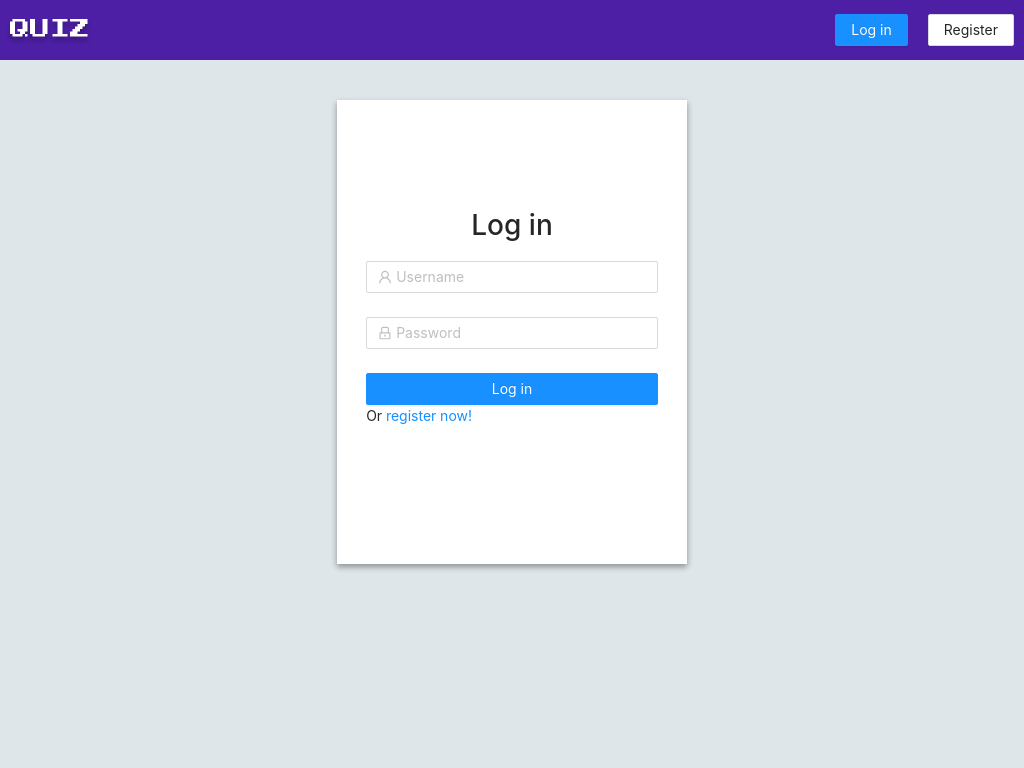
Test: /login › requires valid username and password
Click the 2nd button "Log in" at (512, 389), box [366,373,658,405]
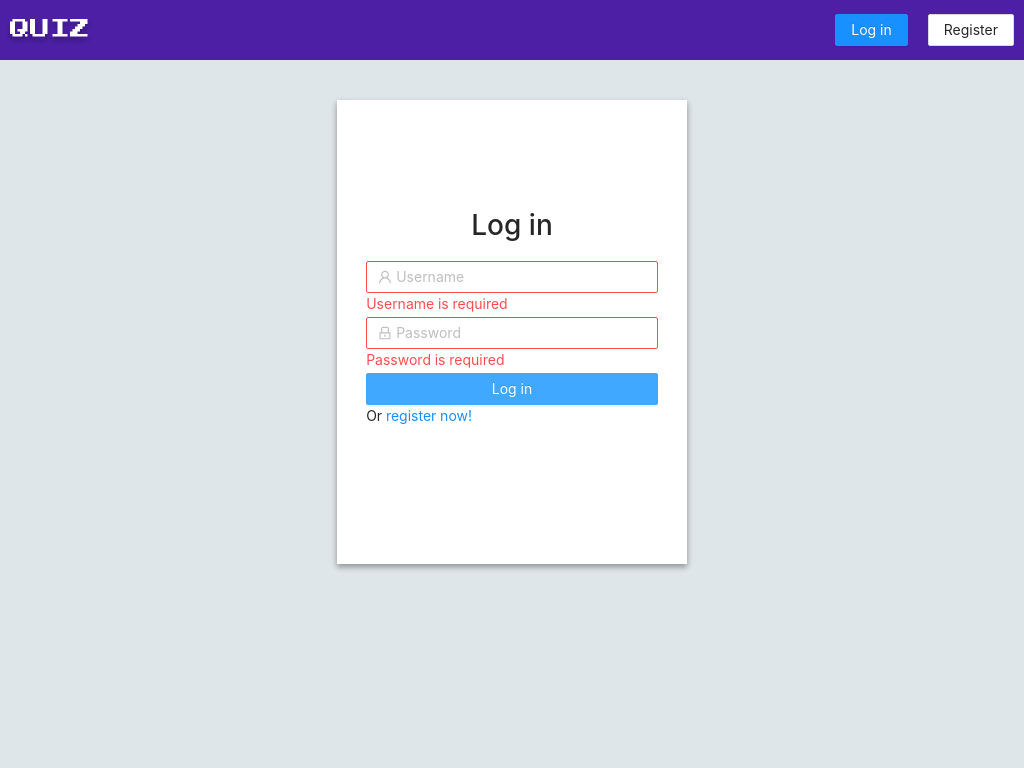
expect the text "Username is required" is shown: met, box [366,295,508,312]
expect the text "Password is required" is shown: met, box [366,351,504,368]
Type "vsim" into the field with placeholder "Username" at (521, 277), box [396,266,646,288]
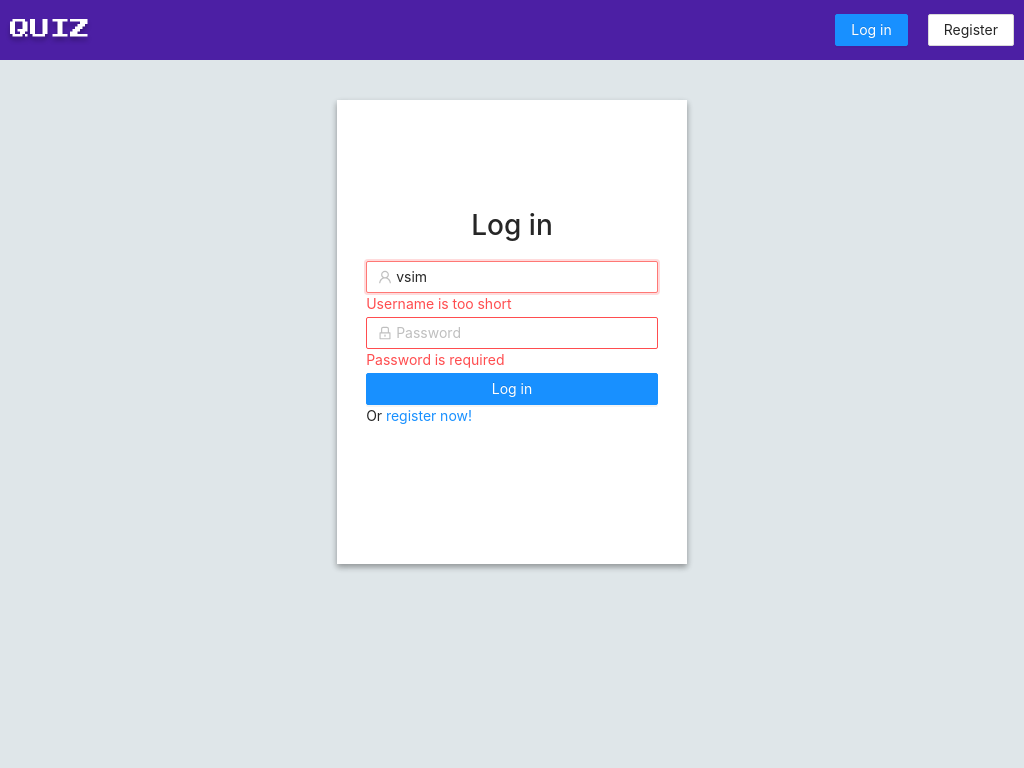
expect the text "Username is too short" is shown: met, box [366,295,512,312]
Type "123" into the password field with placeholder "Password" at (521, 333), box [396,322,646,344]
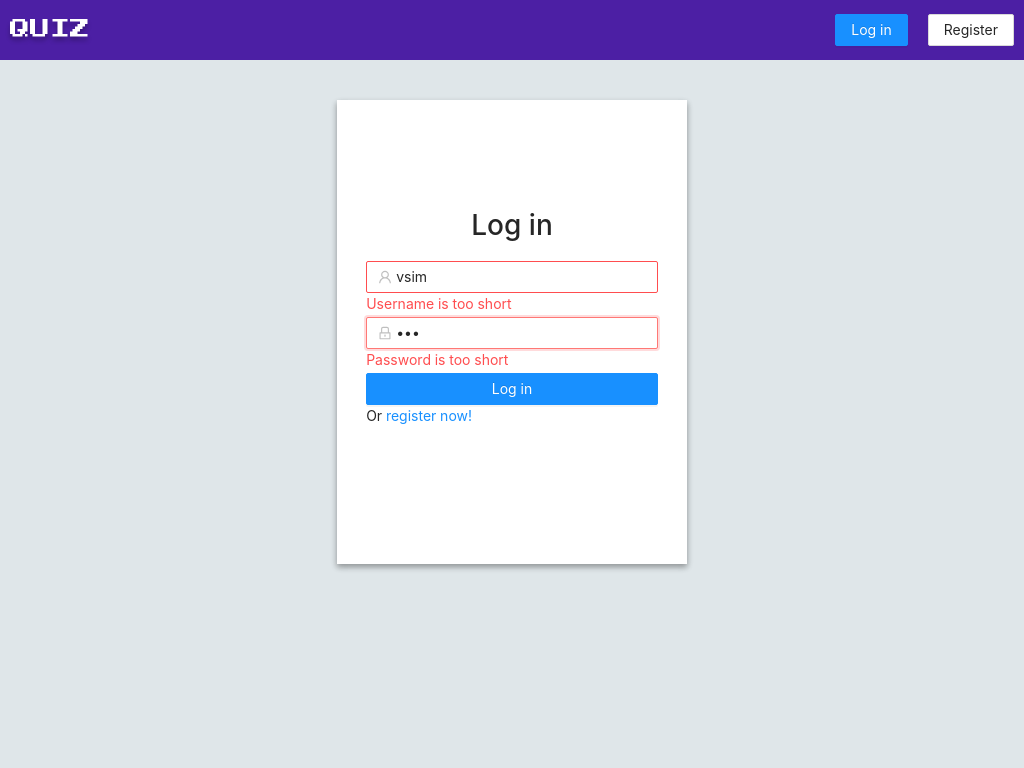
expect the text "Password is too short" is shown: met, box [366,351,508,368]
